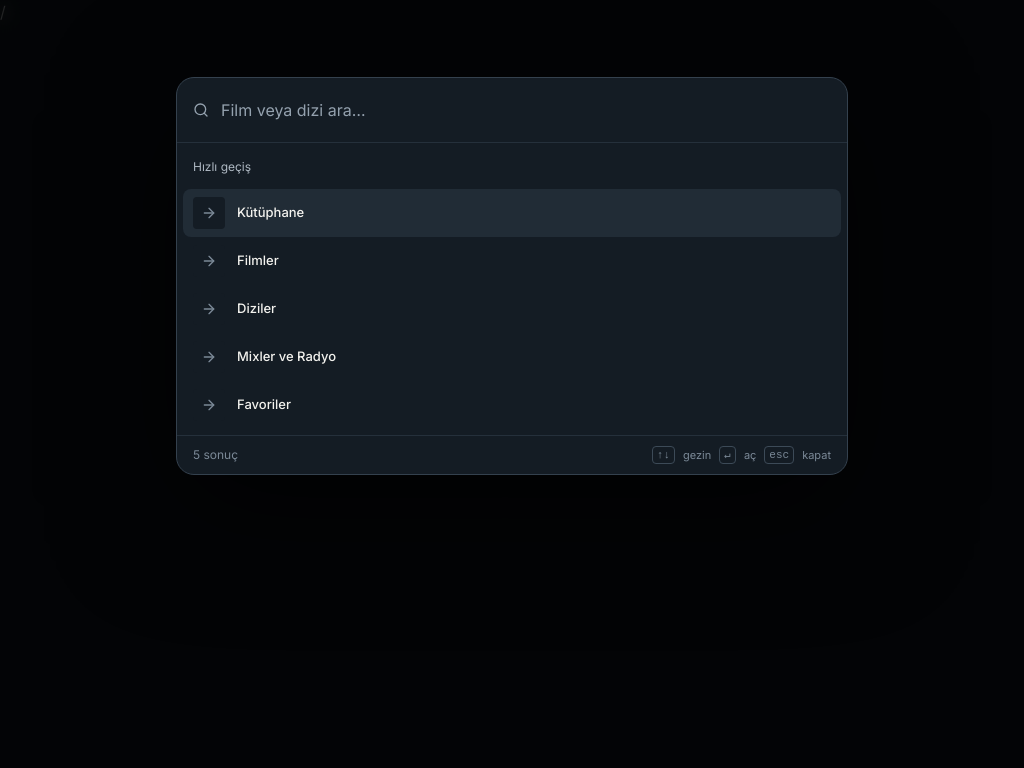
Scenario: global music search › keeps searching status while the music request is pending and cancels on close
Type "waiting" into the dropdown at (526, 110), box top-left (221, 78), bottom-right (831, 142)
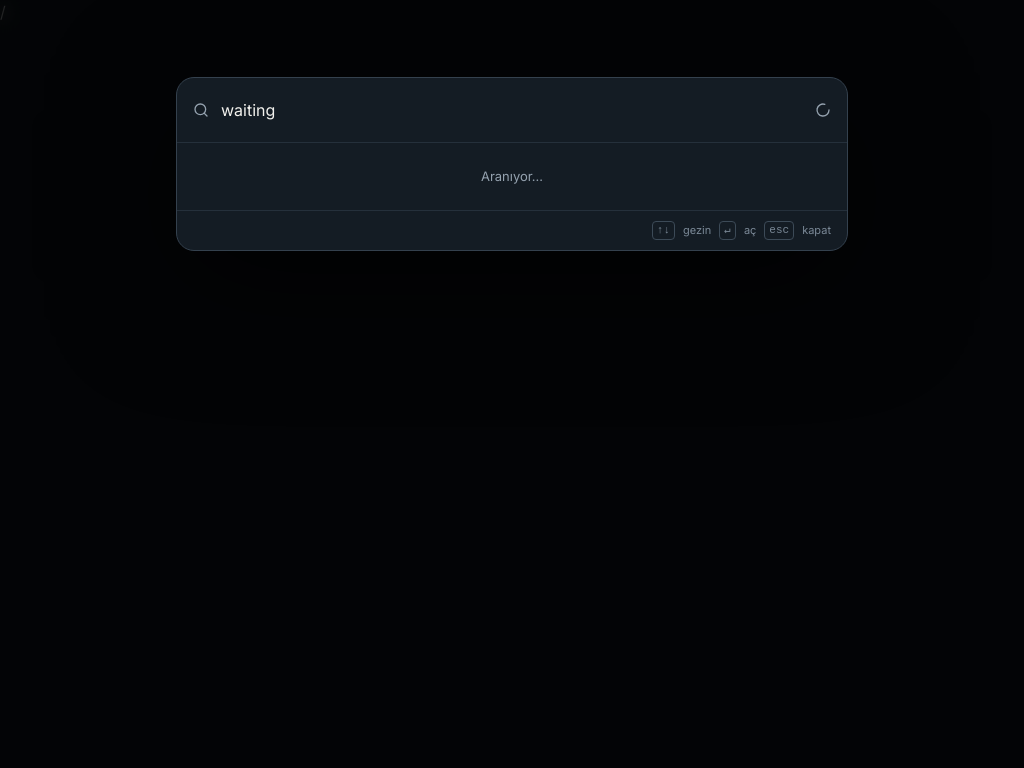
Check: the text "Aranıyor…" is shown, box top-left (481, 168), bottom-right (543, 184)
